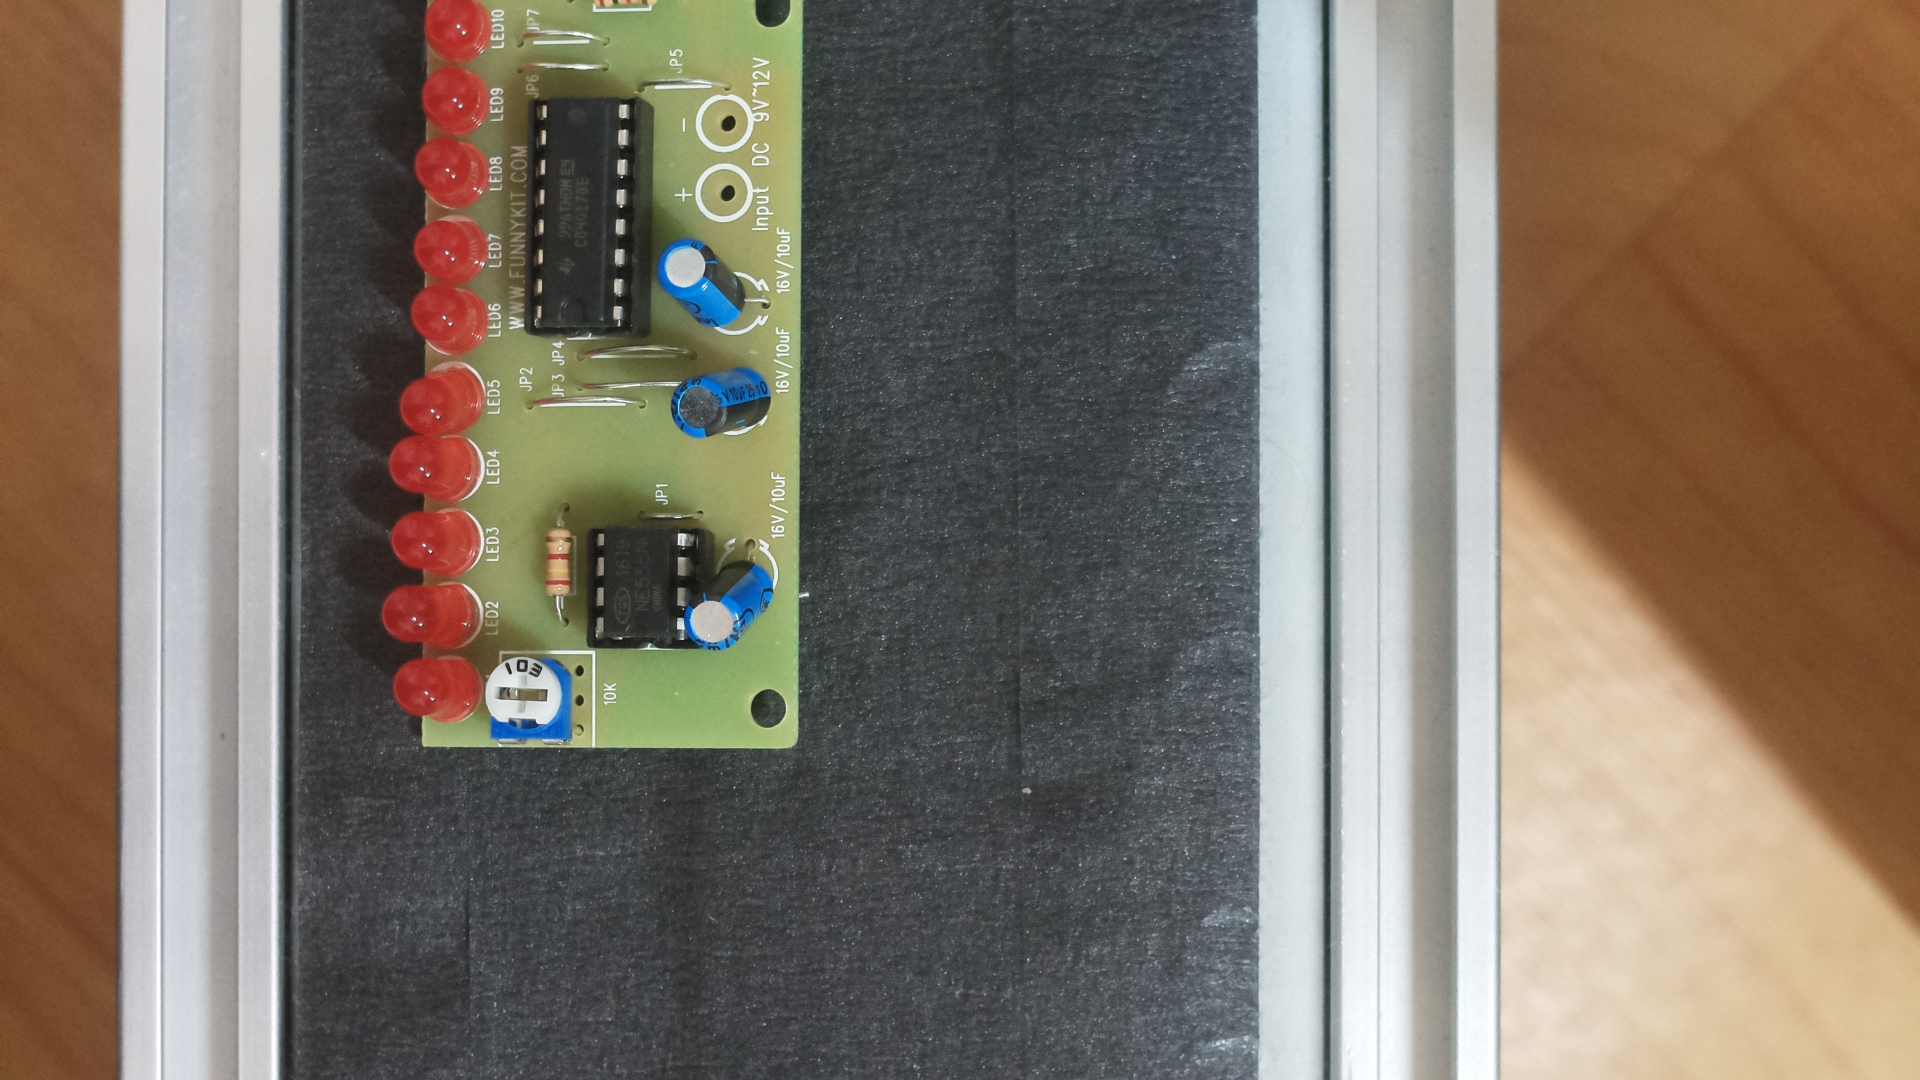B_Normal: (377, 3, 816, 779)
